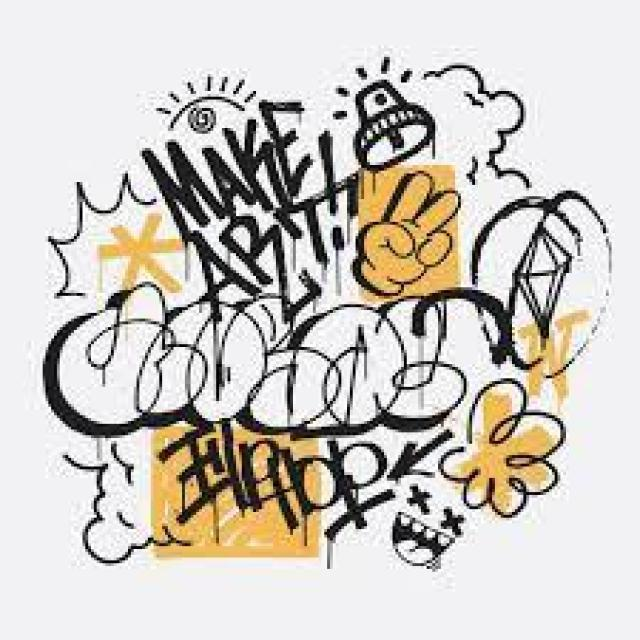nonspitting: (42, 57, 616, 566)
